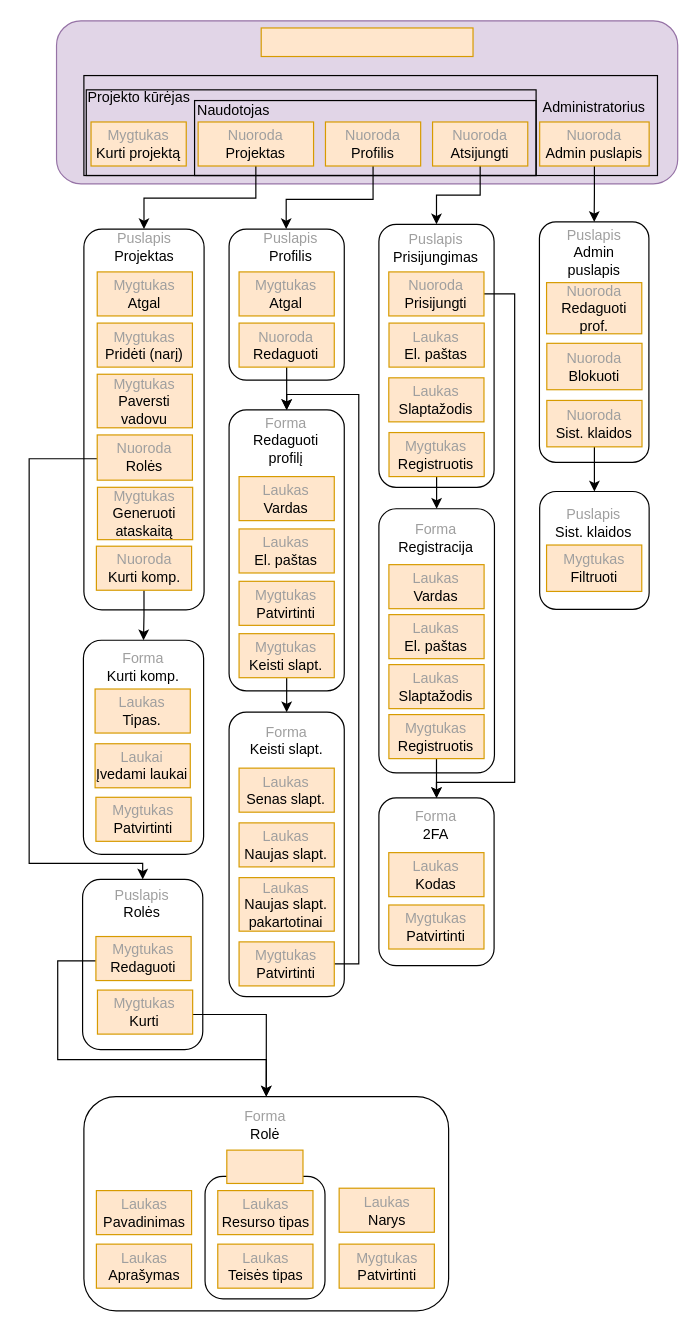
The diagram is 699 pixels wide and 1332 high, and some of its shapes have lost their labels. The centre of each missing label's shape, as x and y in pixels:
Meniu: the point at 366,42
Mygtukas Pirdėti: the point at 264,1166
